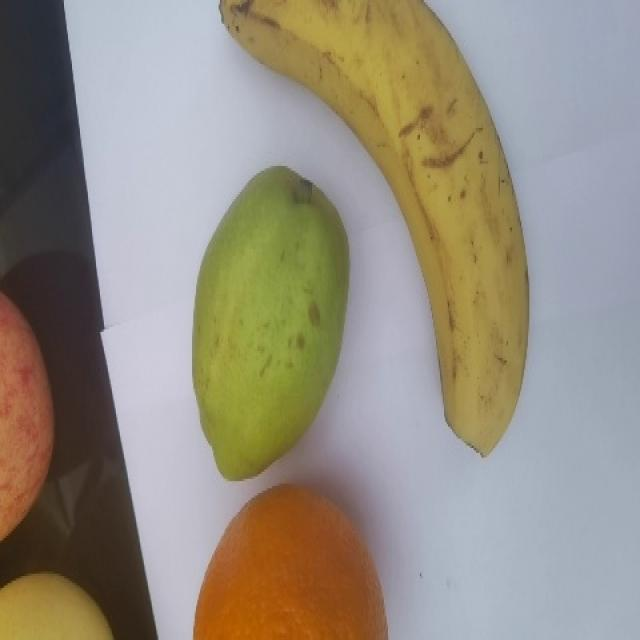Apple: (0, 291, 56, 541)
Banana: (214, 0, 530, 466)
Orange: (187, 486, 392, 640)
